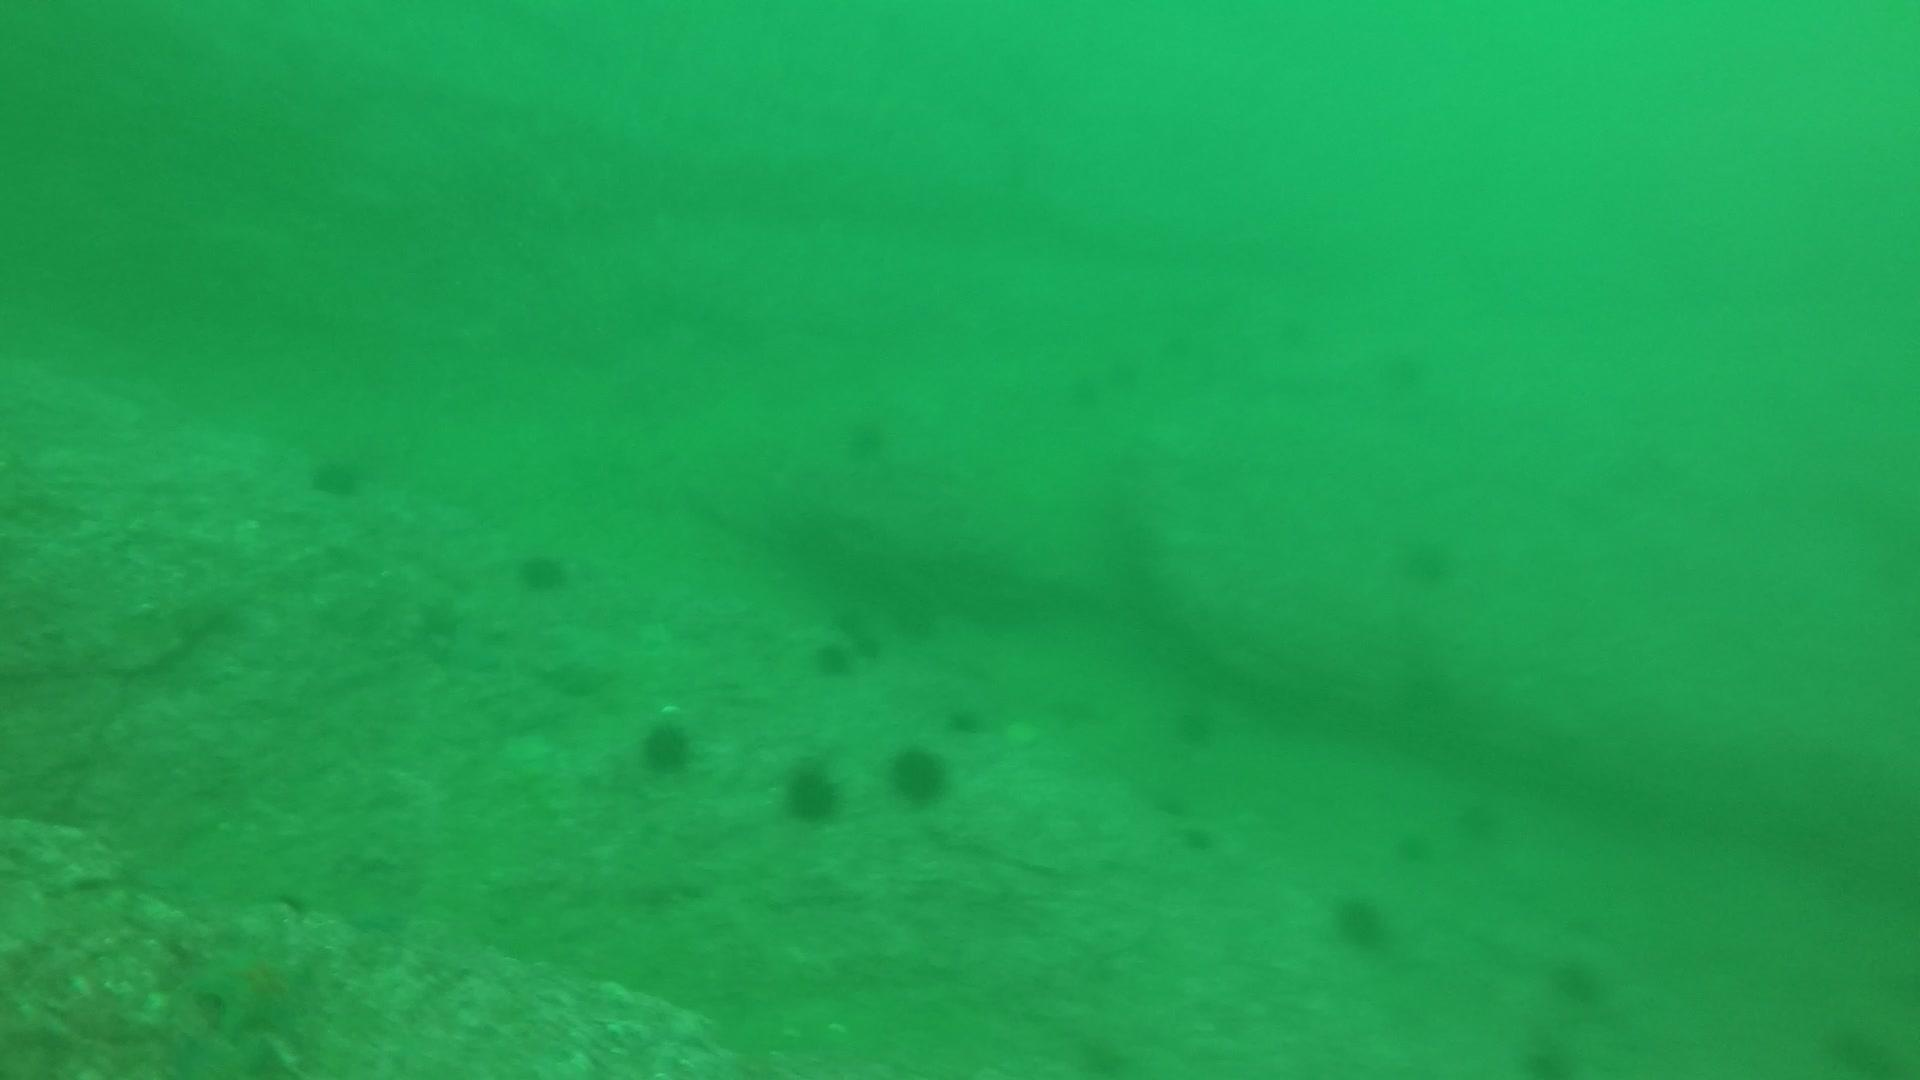echinus: (775, 756, 847, 828), (884, 740, 955, 808), (632, 712, 702, 779), (1325, 887, 1395, 953), (1390, 527, 1461, 589), (1543, 948, 1611, 1007), (1510, 1021, 1578, 1080), (1451, 790, 1513, 849), (305, 448, 371, 502), (837, 407, 895, 465), (1164, 696, 1224, 752), (512, 545, 574, 597), (806, 629, 865, 682), (1390, 823, 1437, 868), (1150, 774, 1197, 819), (1178, 812, 1225, 857), (943, 699, 989, 740)
starfish: (189, 930, 319, 1039)
